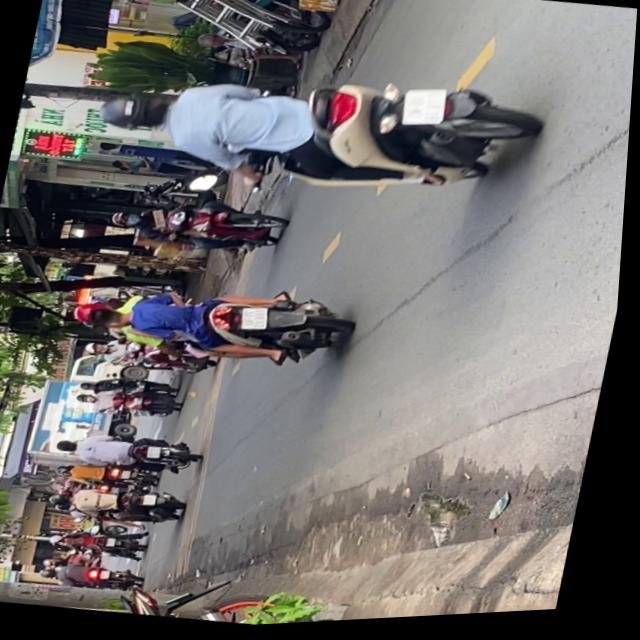helmet: (96, 88, 173, 138), (74, 301, 105, 329), (110, 209, 143, 231)
licenseplate: (82, 35, 549, 233), (66, 261, 362, 388), (105, 188, 293, 269)
motorcyclist: (88, 304, 136, 335)
nohelmet: (400, 88, 449, 133), (242, 308, 273, 334)
